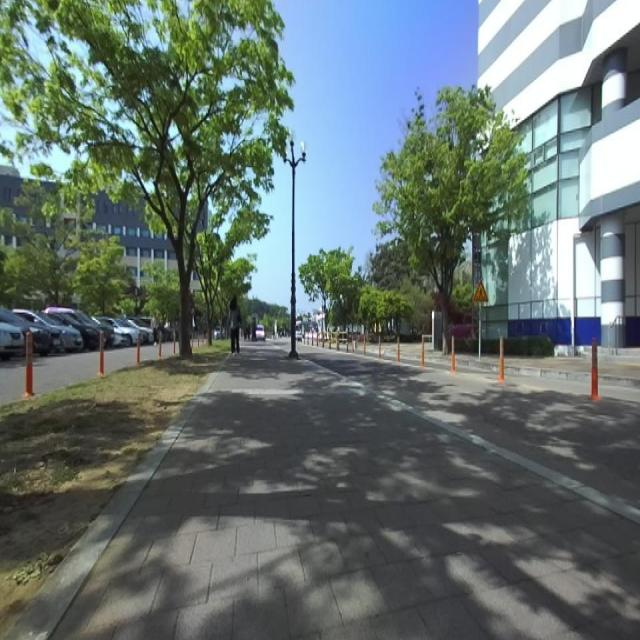sidewalk: (54, 348, 640, 639)
